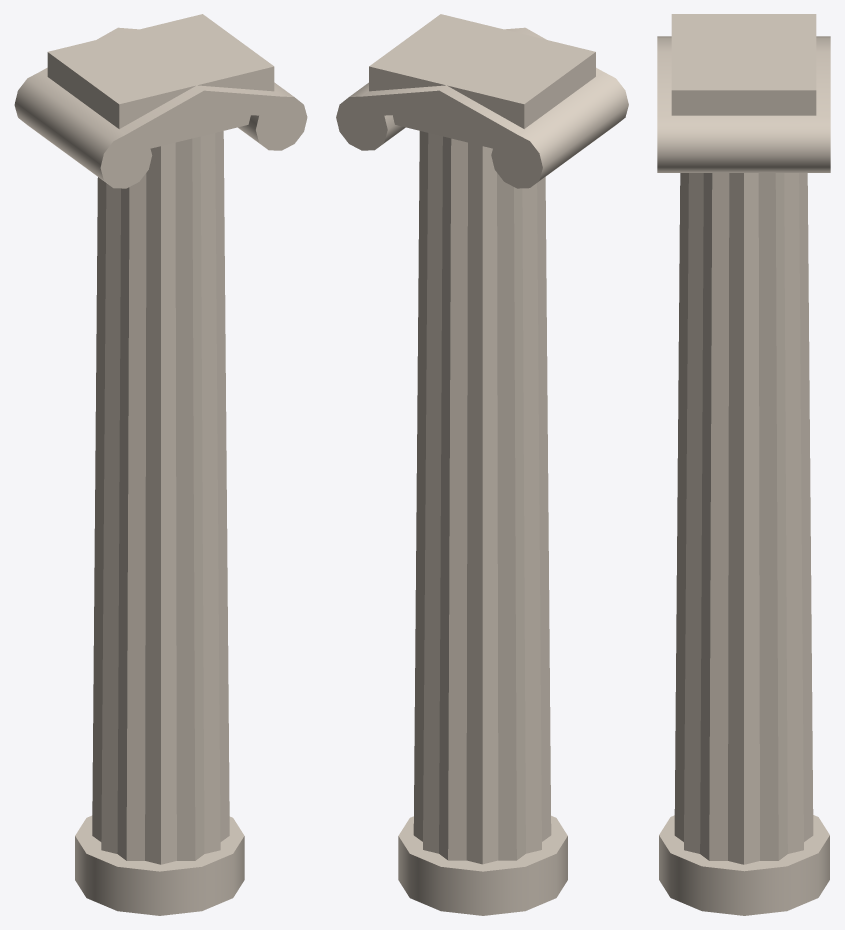
The model's file is Pillar.FBX.
The picture shows the model from 3 angles, left to right: view 1: azimuth 30°, elevation 25°; view 2: azimuth 150°, elevation 25°; view 3: azimuth 270°, elevation 25°; orthographic projection.
Visible parts, largest first — view 1: Middle, Top, Scrolling, Base; view 2: Middle, Top, Scrolling, Base; view 3: Middle, Top, Scrolling, Base.
Boxes of the visible parts, x1=… form: Middle: x1=92, y1=131, x2=229, y2=864; Top: x1=47, y1=14, x2=274, y2=148; Scrolling: x1=14, y1=27, x2=307, y2=188; Base: x1=75, y1=815, x2=244, y2=915; Middle: x1=413, y1=131, x2=551, y2=864; Top: x1=369, y1=14, x2=595, y2=148; Scrolling: x1=336, y1=27, x2=628, y2=188; Base: x1=398, y1=815, x2=567, y2=915; Middle: x1=674, y1=173, x2=813, y2=864; Top: x1=671, y1=14, x2=816, y2=115; Scrolling: x1=657, y1=36, x2=830, y2=172; Base: x1=659, y1=815, x2=829, y2=915.
Bounding box in the file's own units: 160 × 606 × 115.
